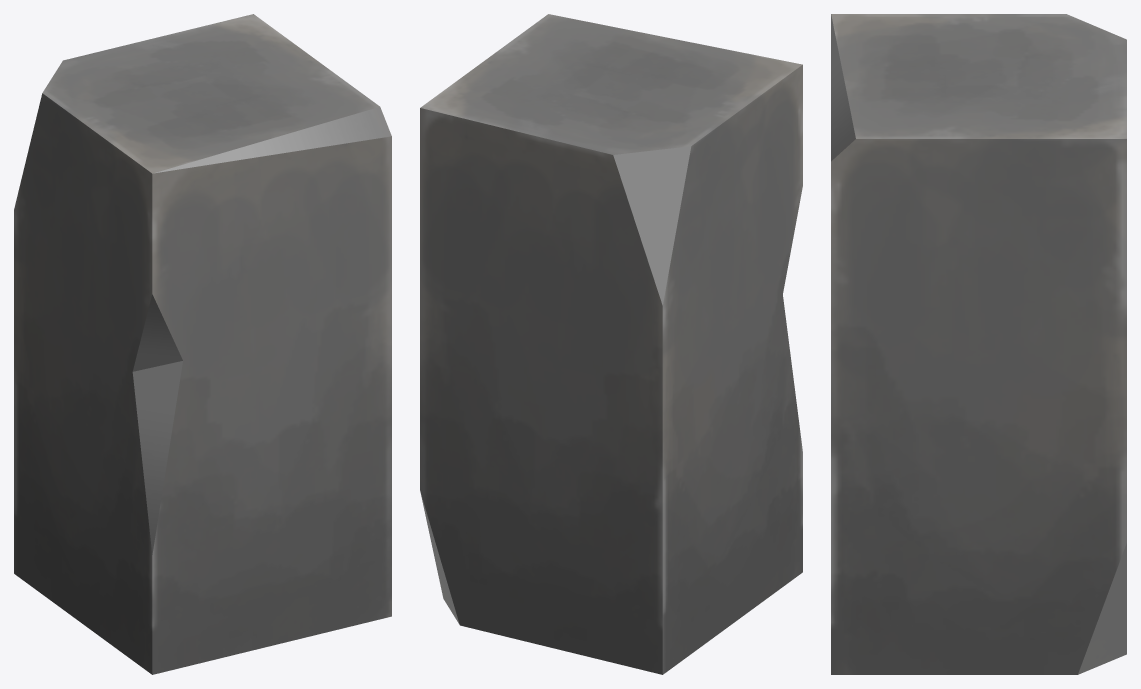
Rendered from foundation_container04.fbx.
3 renders of one model, left to right at view 1: azimuth 30°, elevation 25°; view 2: azimuth 150°, elevation 25°; view 3: azimuth 270°, elevation 25°, orthographic. The views are drawn at different scales.
Parts seen in each view (by area): view 1: foundation_container04; view 2: foundation_container04; view 3: foundation_container04.
Boxes of the visible parts, <box> form: foundation_container04: <box>14,14,391,674</box>; foundation_container04: <box>420,14,802,674</box>; foundation_container04: <box>831,14,1126,674</box>.
Bounding box in the file's own units: 50 × 100 × 50.
